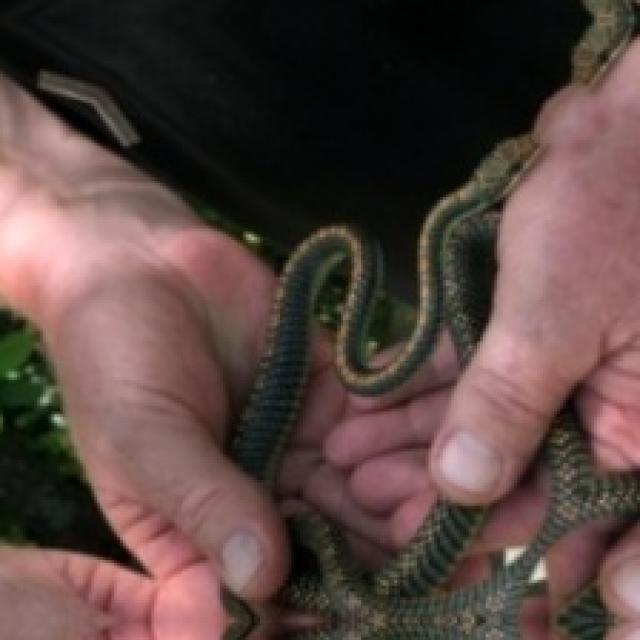paradise tree snake: (234, 0, 637, 500), (449, 143, 637, 466)
